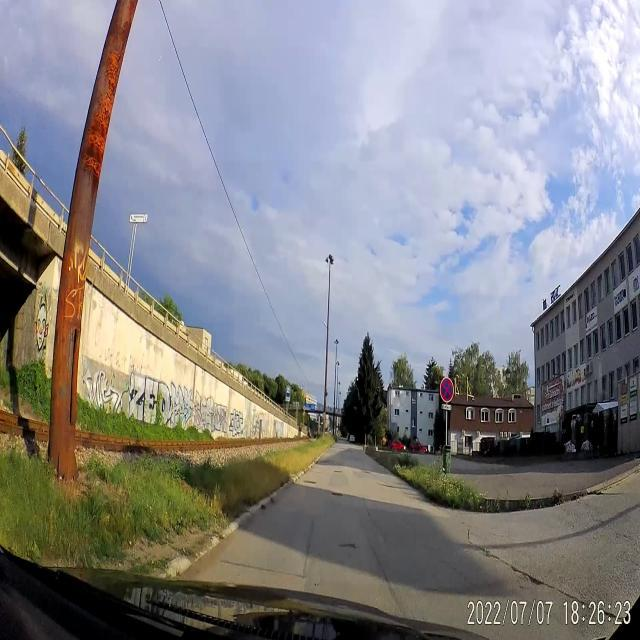Pothole: (335, 534, 359, 560), (326, 484, 348, 501), (302, 478, 316, 488), (332, 467, 342, 475)
